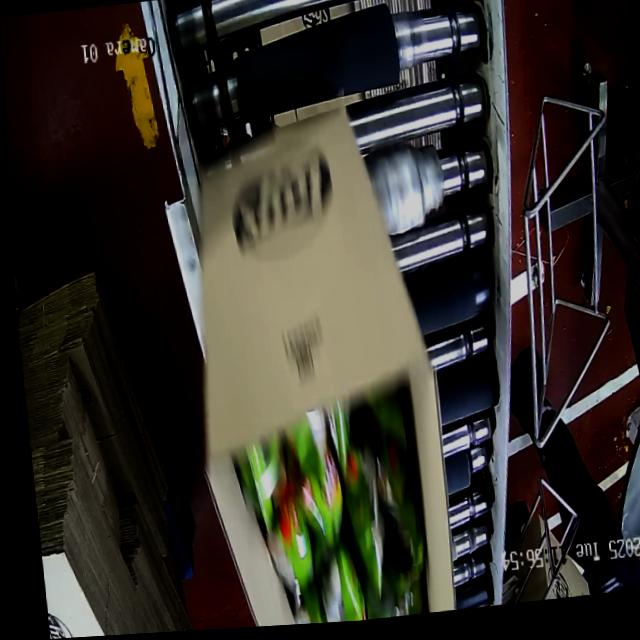YOGURT_HERB: (246, 388, 435, 627)
